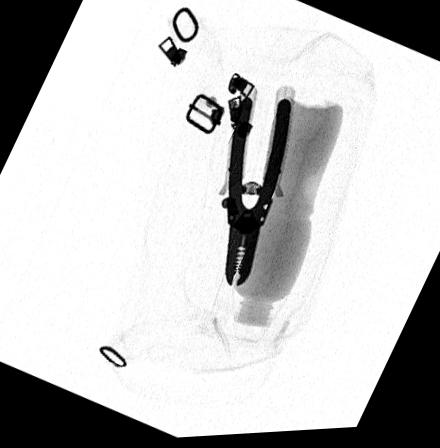Pliers: (223, 99, 291, 289)
